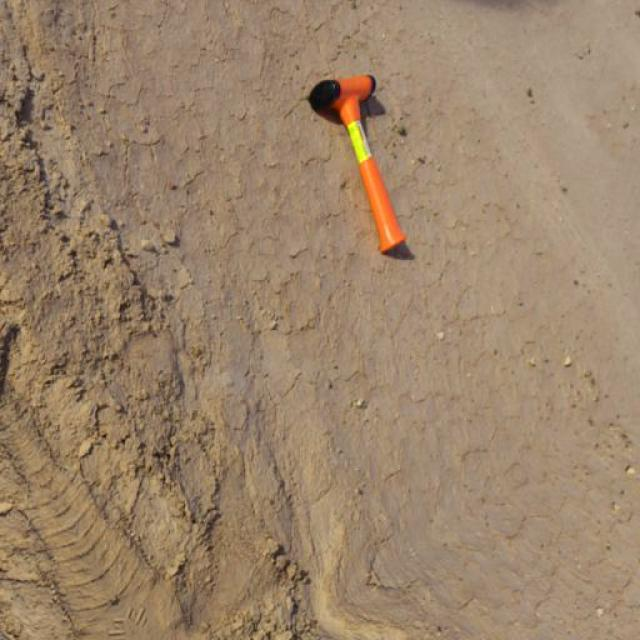mallet: (306, 71, 409, 255)
